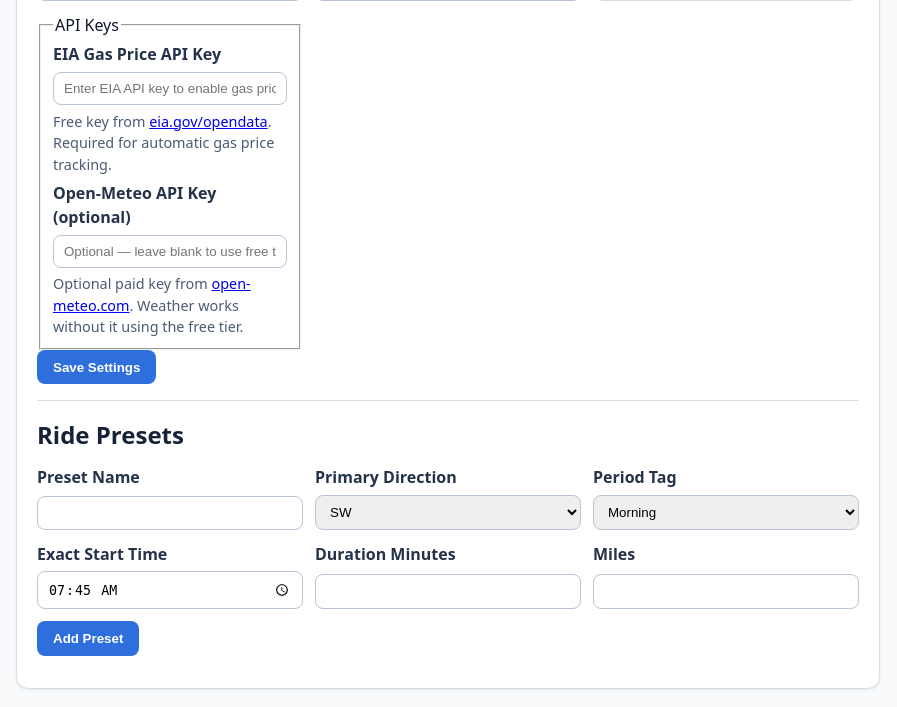
Test: SettingsPage › suggests NE as primary direction when period tag is afternoon
(page scrolled)
Select "Afternoon" in the dropdown labelled "Period Tag" at (726, 512), box [593,495,859,530]
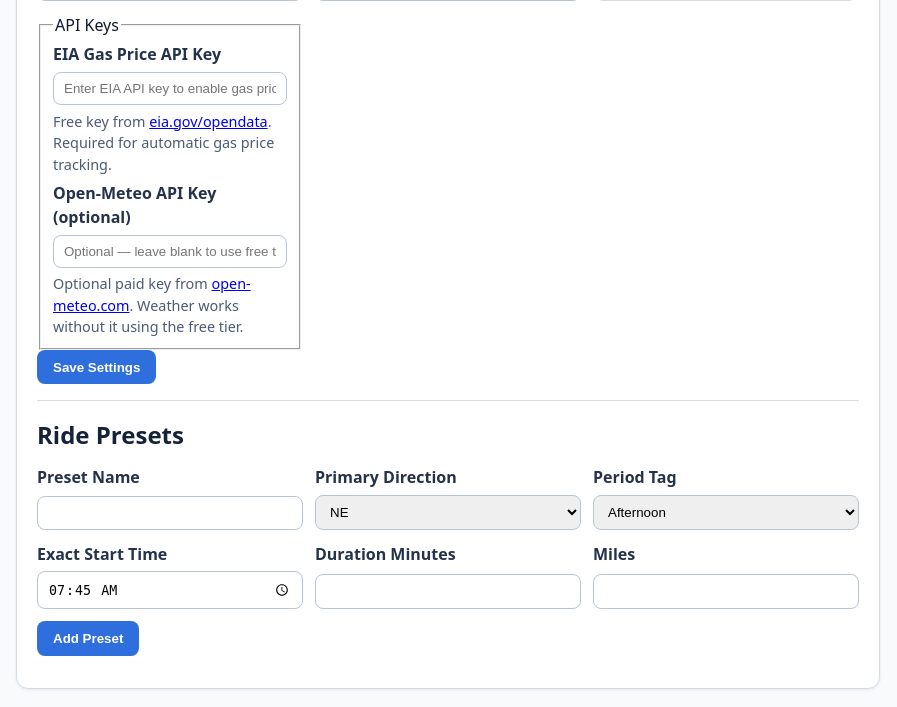
Expected: the dropdown labelled "Primary Direction" shows "NE", [315,495,581,530]
